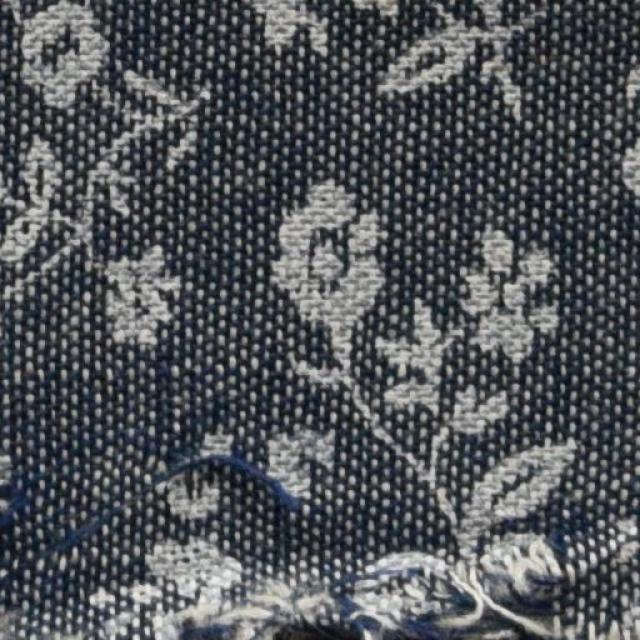Snag: (155, 506, 575, 639)
